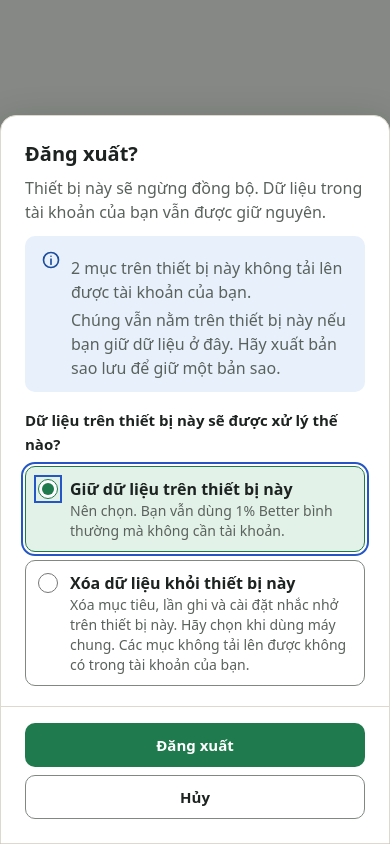
Scenario: SignOutDialog — rows the cloud refused (M7-D5, M8 backlog fix) › vi: proposed strings, no English leaks
Click the radio button labelled "Xóa dữ liệu khỏi thiết bị này" at coordinates (48, 583), box [38,573,58,593]
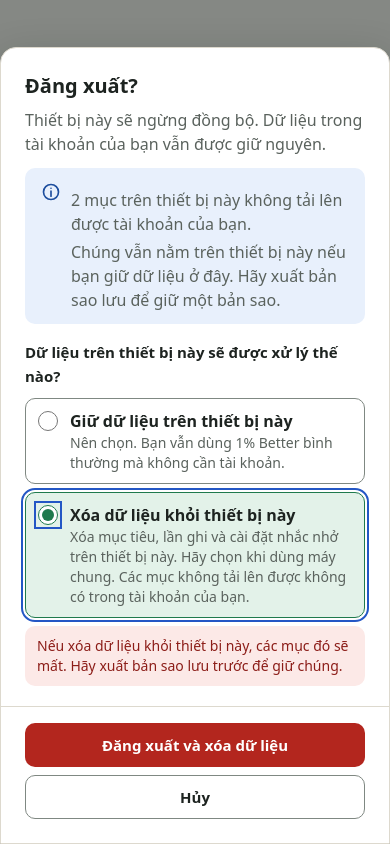
Check: the message with test id "unsynced-remove" shows "Nếu xóa dữ liệu khỏi thiết bị này, các mục đó sẽ mất. Hãy xuất bản sao lưu trước để giữ chúng.", box [37,636,348,675]
